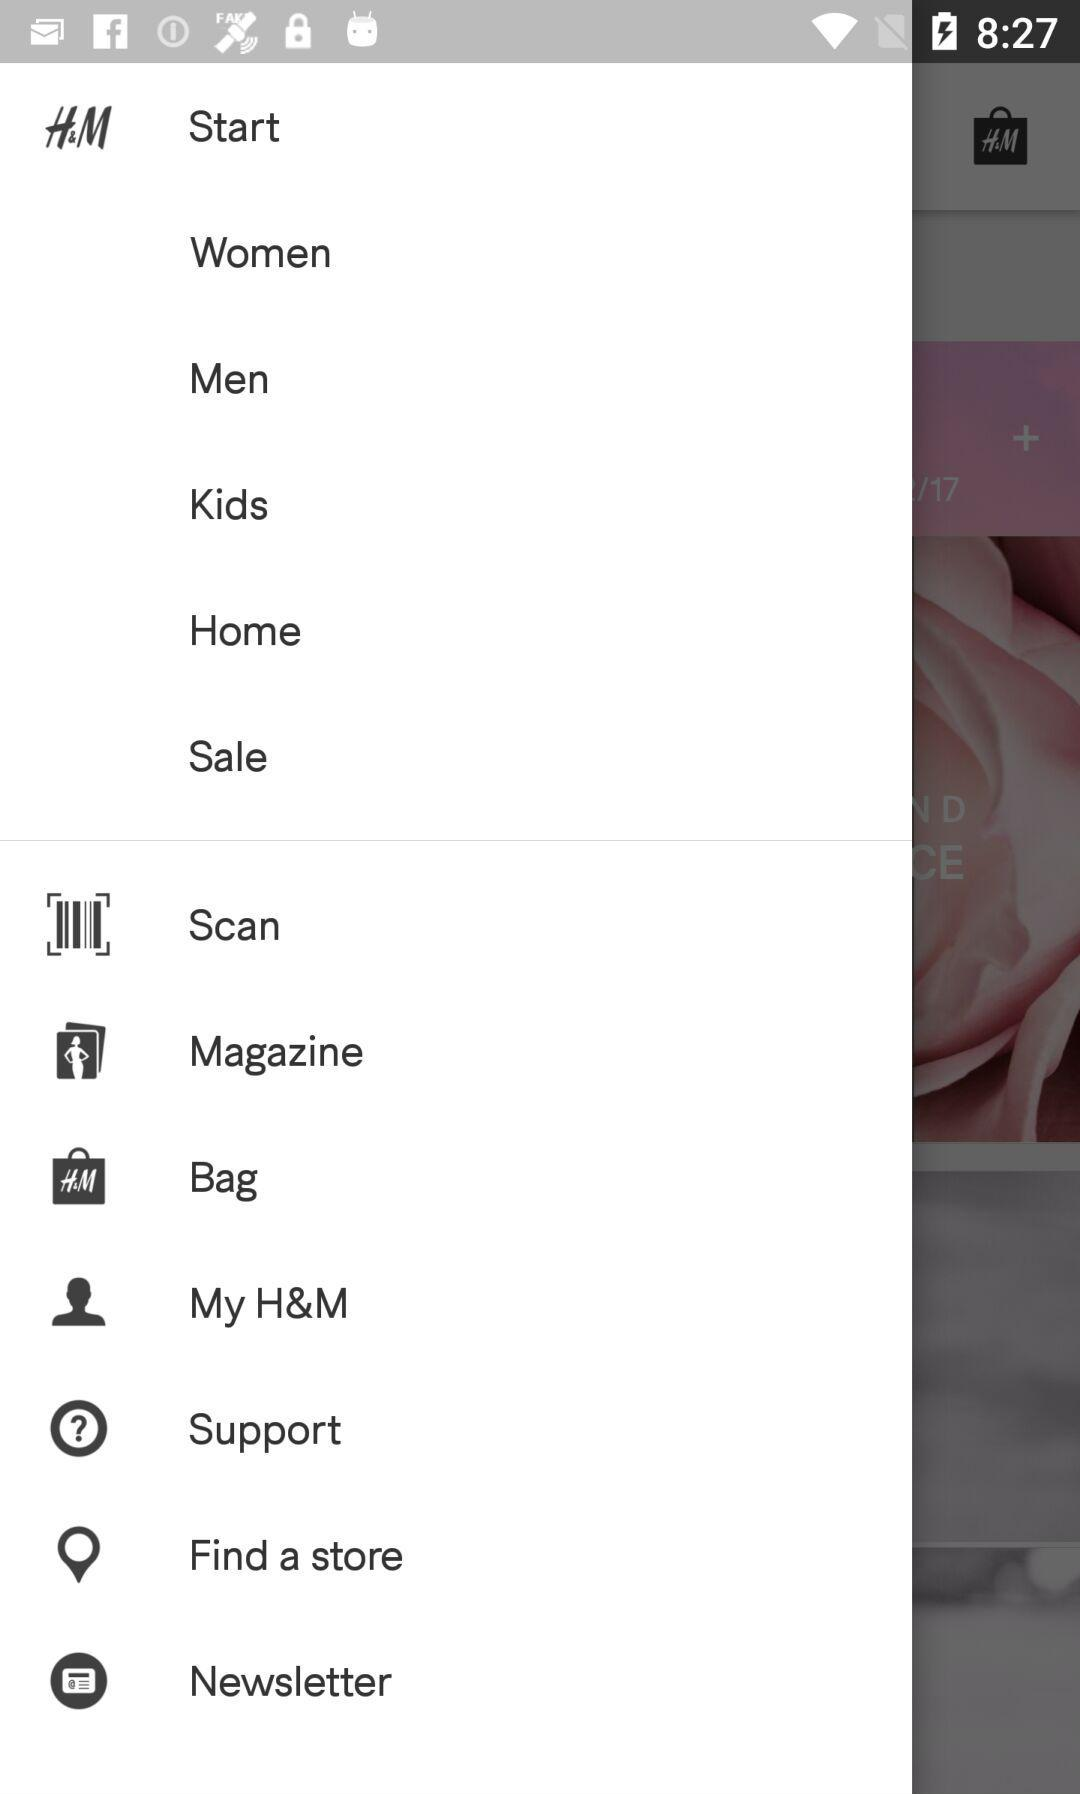Drawer: (1, 64, 913, 1794)
Icon: (50, 1652, 109, 1711), (50, 1399, 109, 1458), (53, 1278, 108, 1328), (58, 1525, 102, 1585)
Image: (47, 893, 111, 957), (53, 1146, 108, 1206), (45, 105, 114, 151), (56, 1021, 108, 1080)
Text: (191, 1536, 404, 1574), (191, 1034, 364, 1076), (191, 1665, 395, 1698), (191, 1287, 348, 1329), (190, 1412, 343, 1454), (190, 236, 331, 270), (192, 614, 302, 648), (190, 109, 281, 145), (190, 909, 281, 943), (191, 1161, 260, 1203), (190, 739, 268, 774), (191, 361, 269, 396), (192, 487, 269, 522)
UpperTaskBar: (1, 1, 1080, 64)
